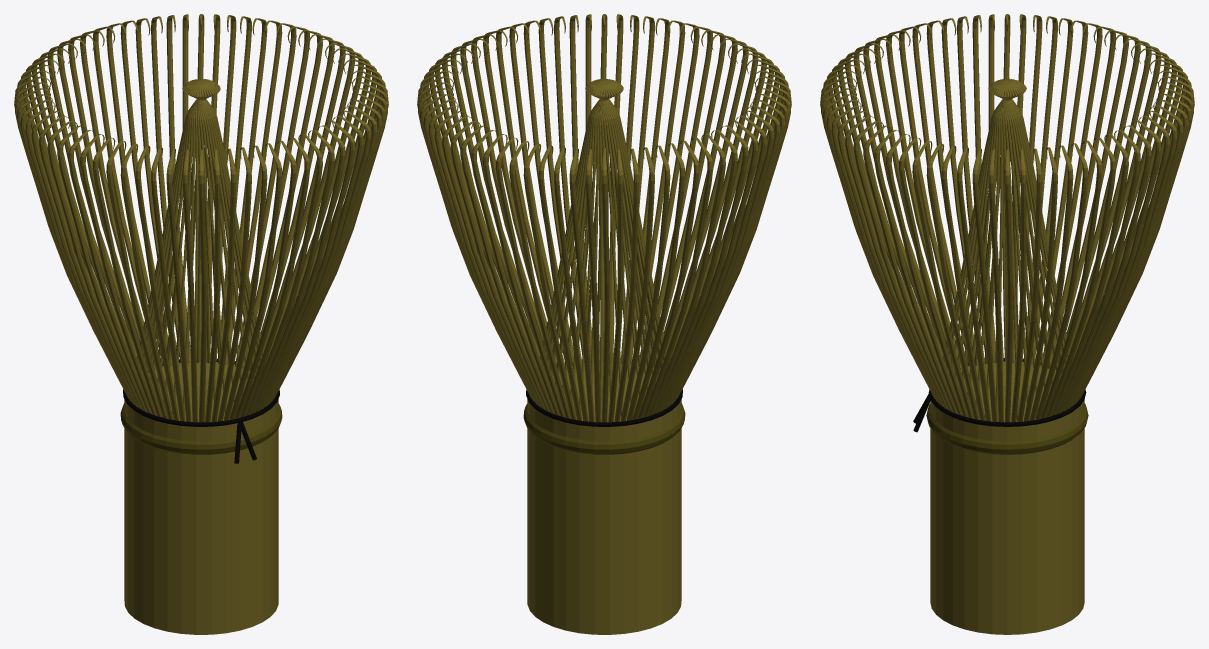
Rendered from chasen.fbx.
3 renders of one model, left to right at view 1: azimuth 30°, elevation 25°; view 2: azimuth 150°, elevation 25°; view 3: azimuth 270°, elevation 25°, orthographic.
Visible parts, largest first — view 1: 立方体.001, 円柱, 立方体, 円柱.002, トーラス.005; view 2: 立方体.001, 円柱, 立方体, 円柱.002, トーラス.005; view 3: 立方体.001, 円柱, 立方体, 円柱.002, トーラス.005.
Part boxes in pixels (<box>): 立方体.001: <box>14,14,388,422</box>; 円柱: <box>124,361,278,634</box>; 立方体: <box>137,78,266,422</box>; 円柱.002: <box>120,403,282,454</box>; トーラス.005: <box>123,358,279,426</box>; 立方体.001: <box>417,14,791,422</box>; 円柱: <box>527,361,681,634</box>; 立方体: <box>540,78,669,422</box>; 円柱.002: <box>523,403,685,454</box>; トーラス.005: <box>526,359,682,426</box>; 立方体.001: <box>820,14,1194,422</box>; 円柱: <box>930,361,1084,634</box>; 立方体: <box>943,78,1072,421</box>; 円柱.002: <box>926,403,1088,454</box>; トーラス.005: <box>928,358,1086,426</box>.
Size of the model in its own units: 485 by 753 by 485.
